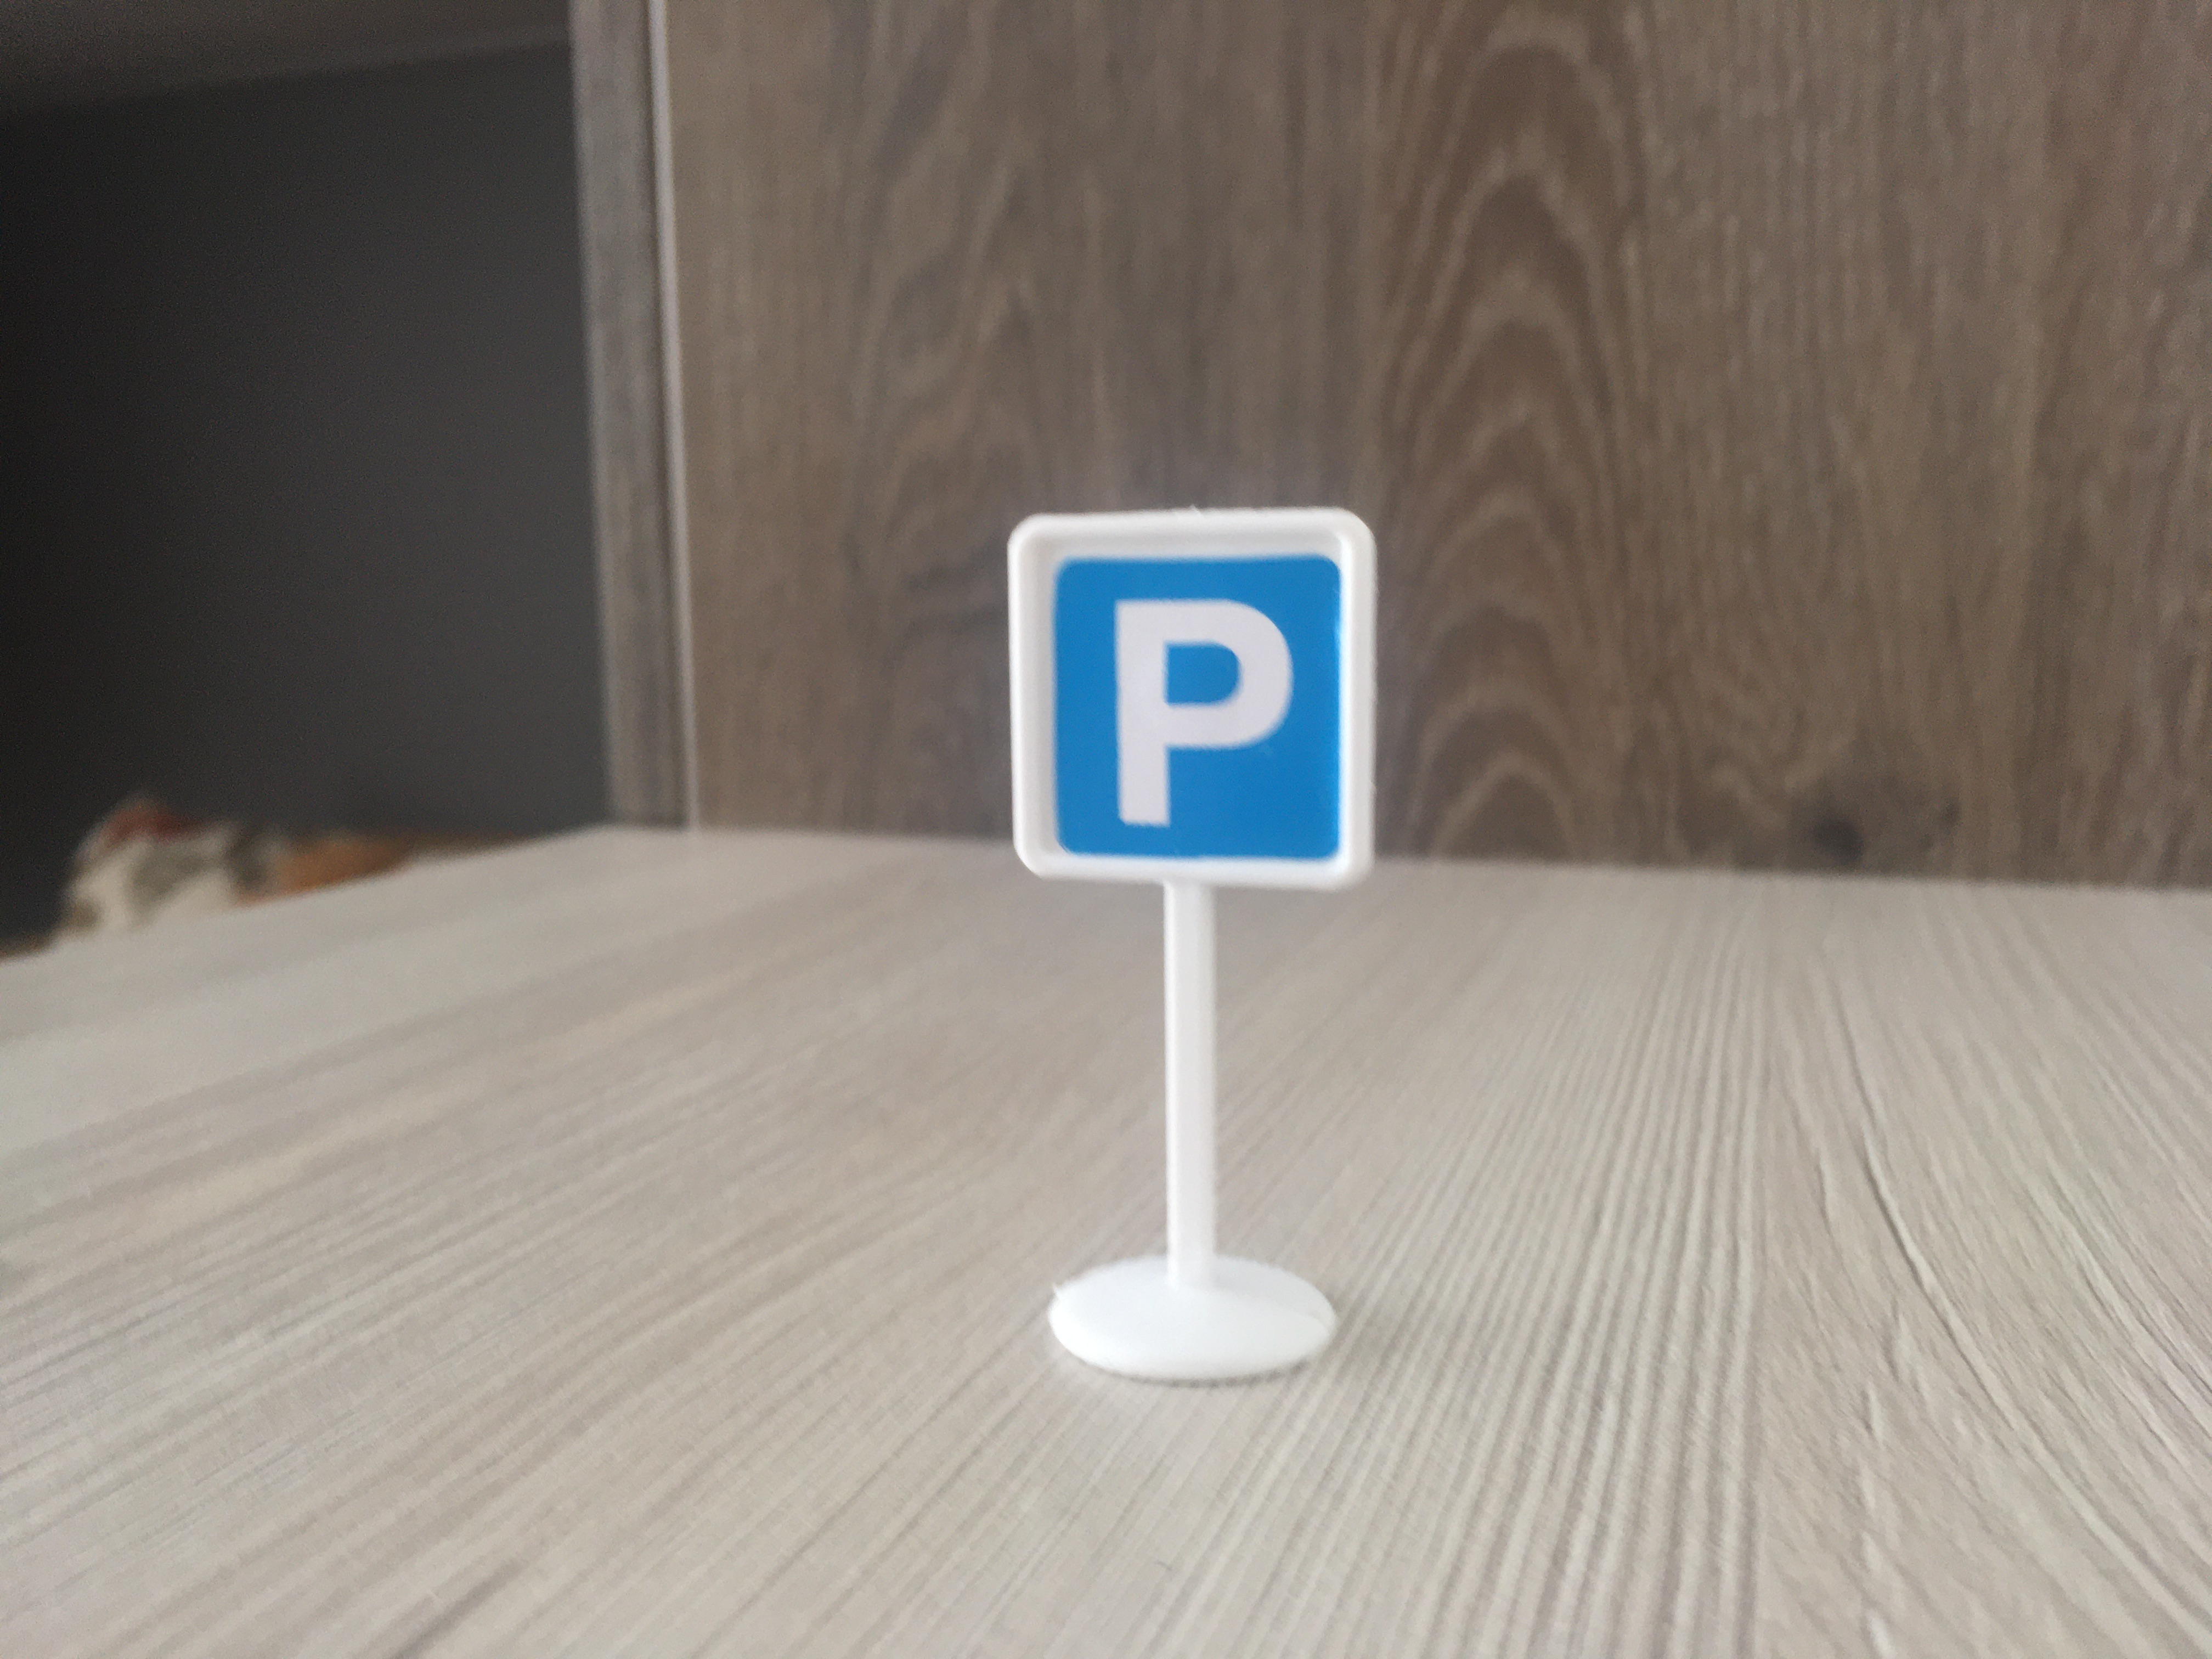parking: (995, 500, 1379, 913)
